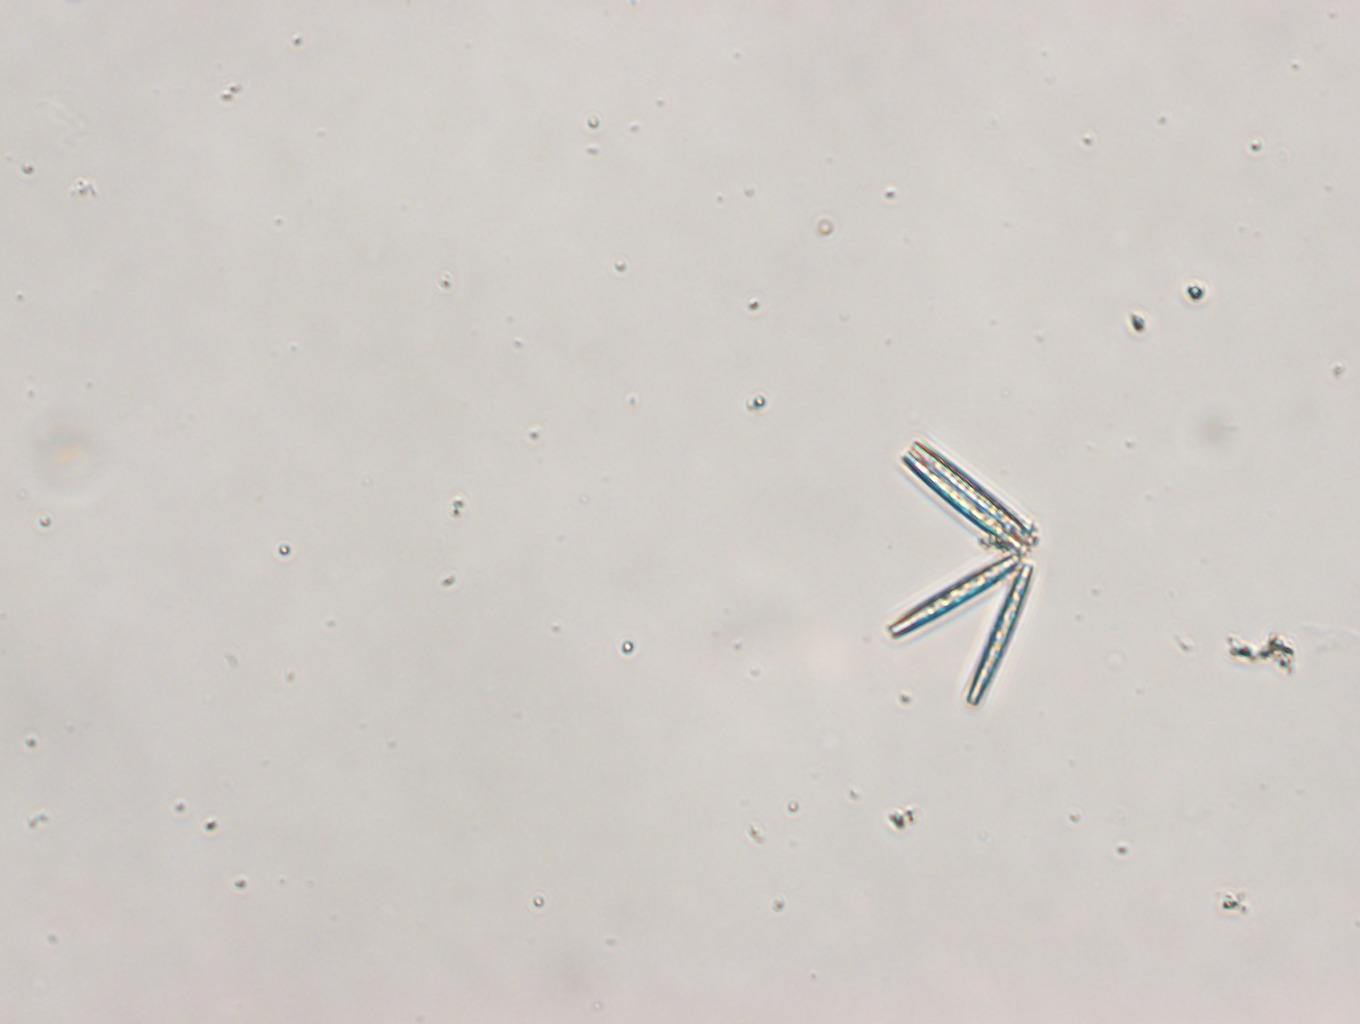thalassionema nitzschioides: (875, 435, 1042, 715)
